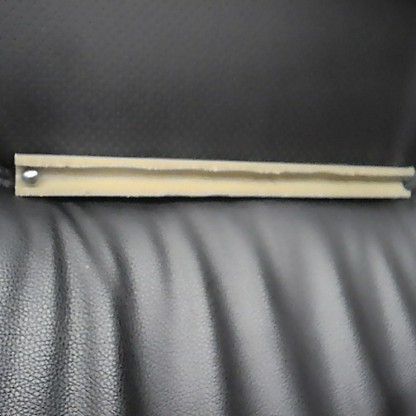ironball: (18, 165, 39, 186)
